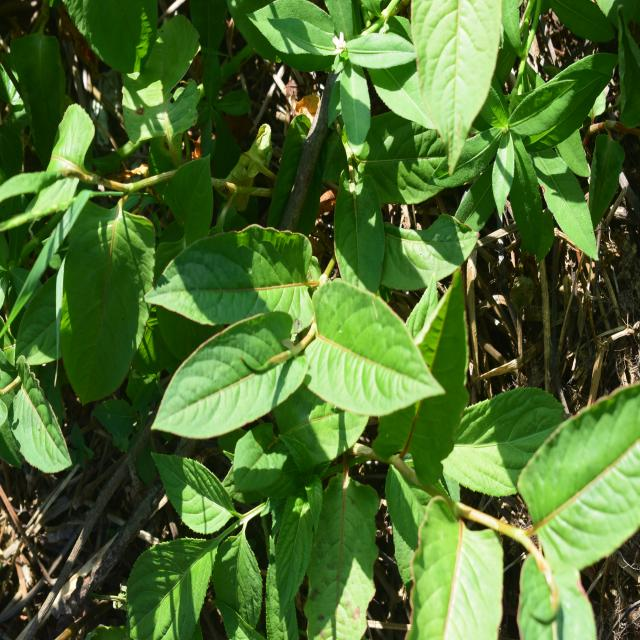Chinese_knotweed: (147, 213, 434, 454)
